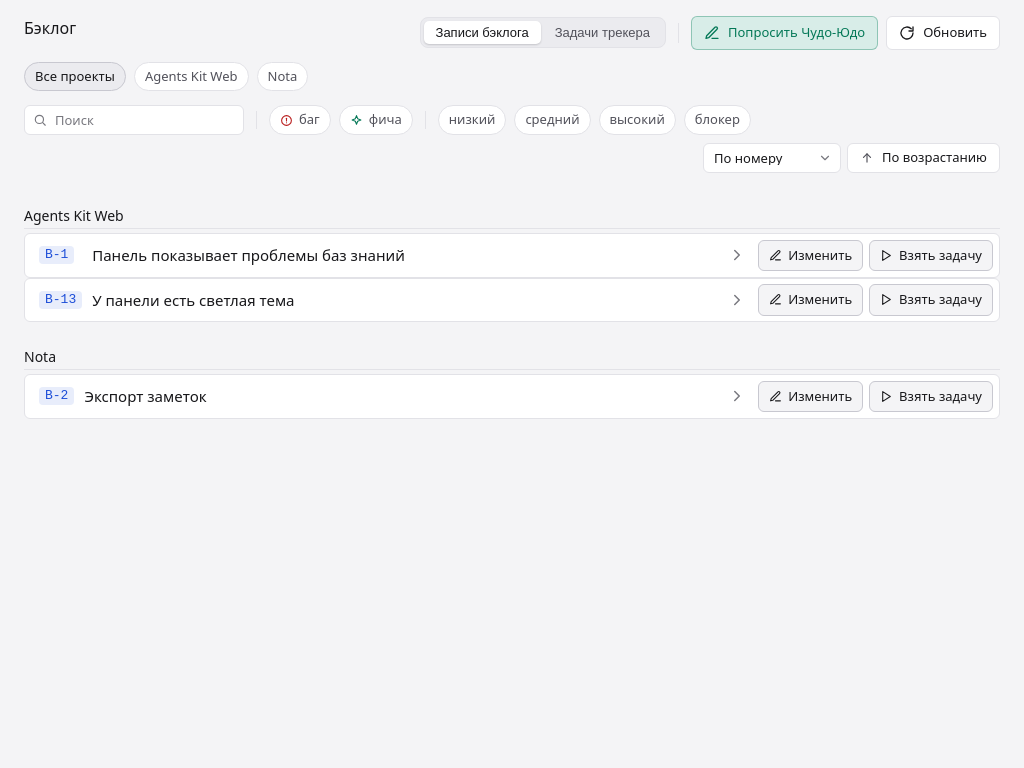
Test: клик по записи открывает окно с номером, заголовком и размеченным текстом
The width and height of the screenshot is (1024, 768).
Click the button "B-1 Панель показывает проблемы баз знаний": point(393, 255) [33,238,752,272]
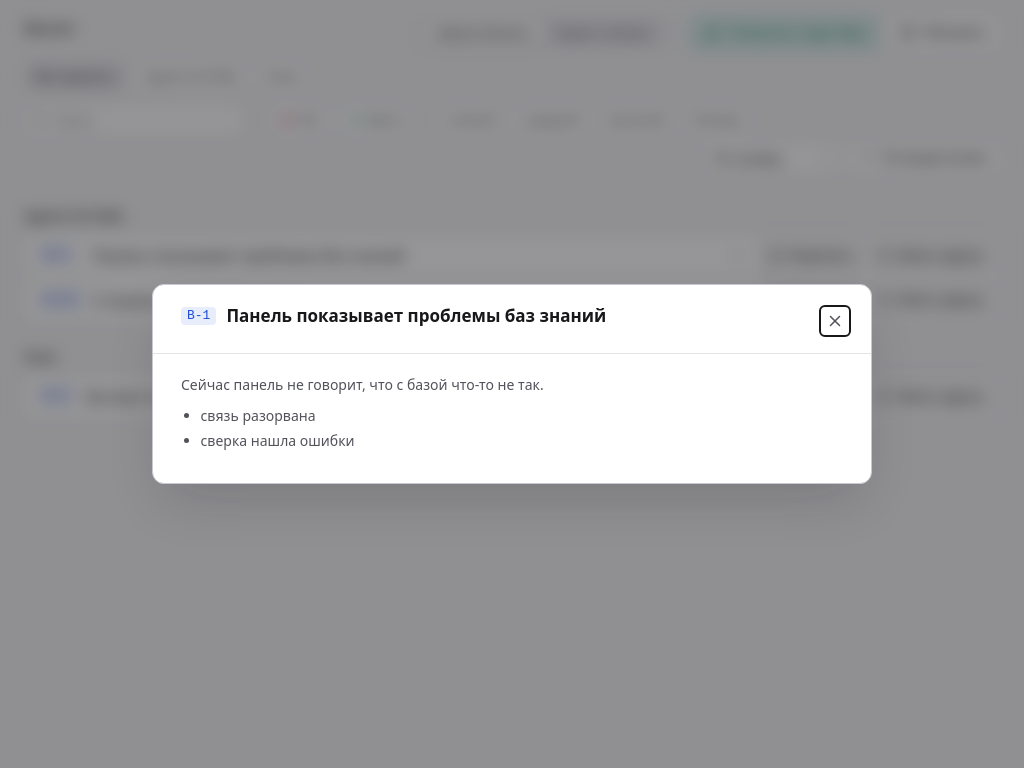
Now the text "B-1" is shown, box [181,307,216,325]
Now the text "Сейчас панель не говорит, что с базой что-то не так." is shown, box [181,375,544,394]
Now the list items read "связь разорвана", "сверка нашла ошибки", in this order, box [201,406,316,425]; [201,431,355,450]
